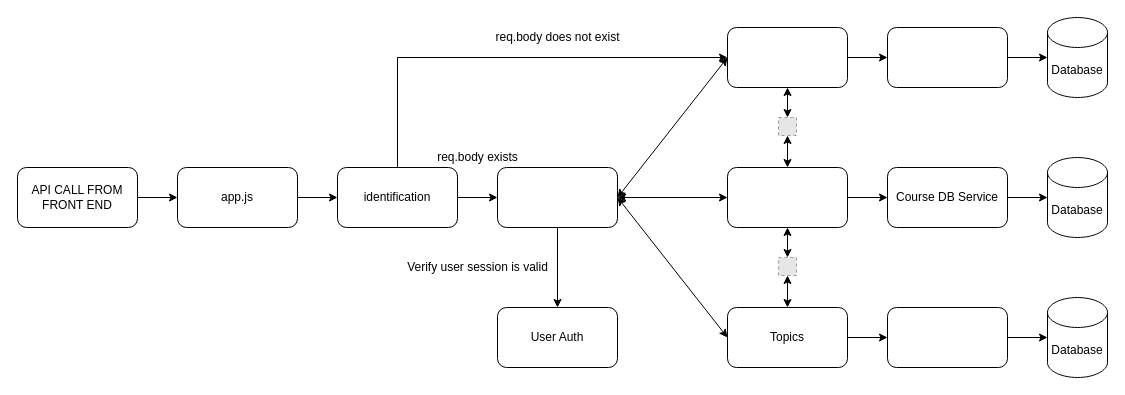
Image size: 1125x395. Some labels were removed from this diagram. Grey dashed boxes stand in for pictures. Each missing label, with the box of its shape:
API Gateway: (496, 166, 618, 228)
Courses: (726, 166, 848, 228)
Topics DB Service: (886, 306, 1008, 368)
User DB Service: (886, 26, 1008, 88)
Users: (726, 26, 848, 88)
